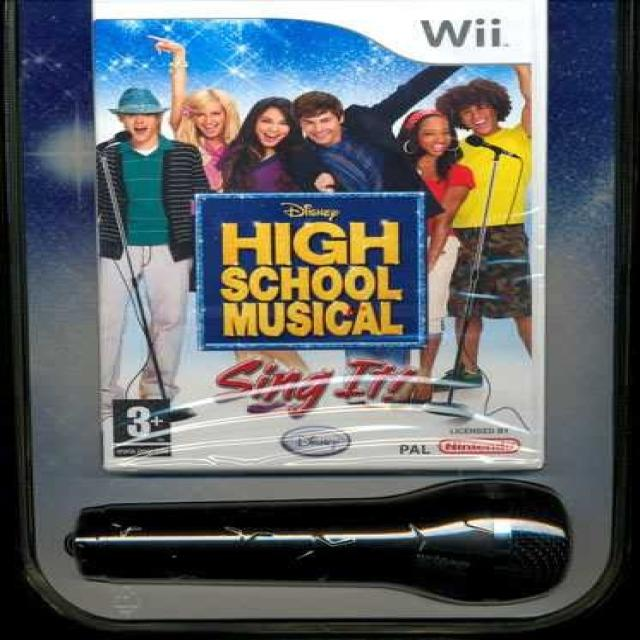microphone: (78, 511, 568, 596), (466, 135, 520, 159), (102, 126, 130, 155)
